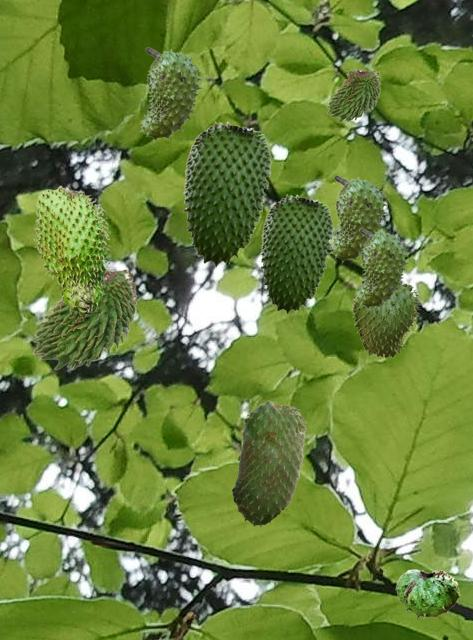guyabano: (183, 121, 270, 266), (31, 268, 137, 369), (33, 185, 111, 317), (231, 400, 306, 526), (260, 194, 332, 313), (139, 47, 203, 141), (328, 175, 388, 262), (352, 283, 420, 359), (354, 228, 409, 309), (395, 569, 459, 619), (326, 67, 380, 121)
